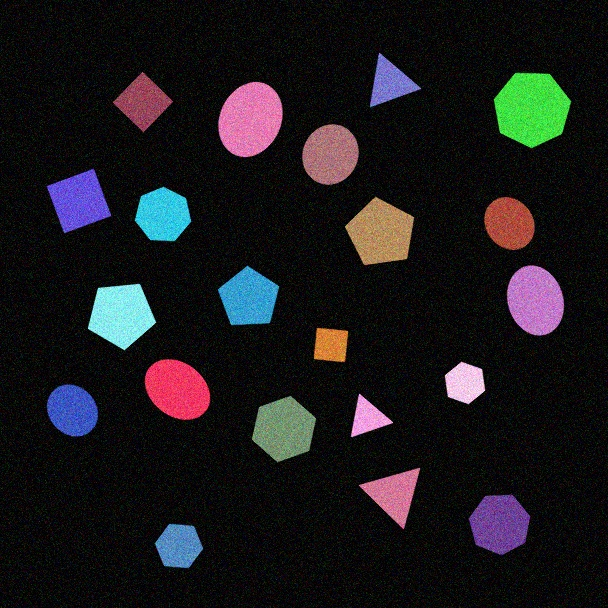Circulo: (301, 123, 360, 186), (483, 196, 536, 251), (46, 384, 99, 437)
Elipse: (218, 81, 283, 158), (144, 358, 211, 421), (506, 265, 565, 336)
Heptagono: (493, 72, 572, 149), (468, 494, 531, 556), (134, 186, 192, 242)
Hexagono: (251, 395, 317, 463), (154, 523, 204, 569), (444, 361, 486, 405)
Pentagono: (344, 196, 415, 266), (87, 283, 157, 351), (217, 265, 280, 326)
Quadrado: (46, 168, 112, 234), (112, 71, 174, 133), (313, 327, 349, 363)
Triangulo: (359, 467, 421, 530), (369, 52, 422, 108), (350, 393, 394, 438)
